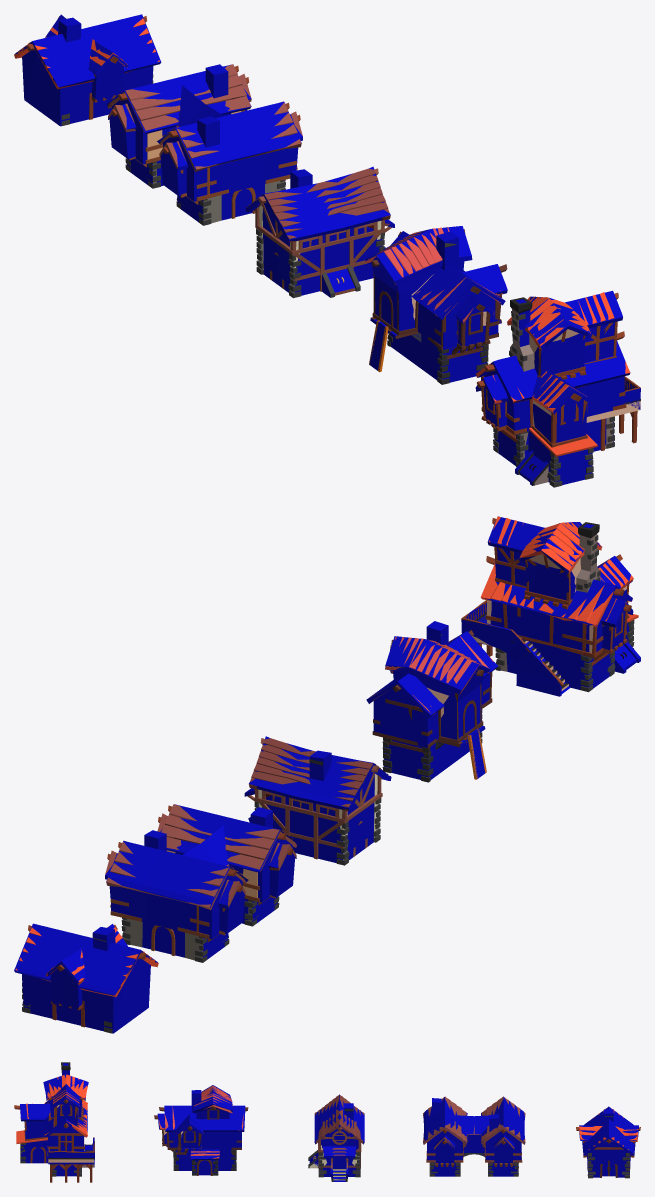
The model's file is Pack_Houses.obj.
3 views of the same model, one above another, from view 1: azimuth 30°, elevation 25°; view 2: azimuth 150°, elevation 25°; view 3: azimuth 270°, elevation 25° (orthographic). The views are drawn at different scales.
Visible parts, largest first — view 1: Cube.097_Cube.090, Cube.094_Cube.095, Cube.103, Cube.108_Cube.109, Cube.120_Cube.121, Cube.048_Cube.058, Cube.109_Cube.110, Cube.044_Cube.050, Cube.013_Cube.002, Cube.125_Cube.126, Cube.121_Cube.122, Cube.029_Cube.031 (+19 smaller); view 2: Cube.097_Cube.090, Cube.094_Cube.095, Cube.103, Cube.108_Cube.109, Cube.120_Cube.121, Cube.048_Cube.058, Cube.109_Cube.110, Cube.044_Cube.050, Cube.118_Cube.119, Cube.013_Cube.002, Cube.050_Cube.028, Cube.010_Cube.025 (+15 smaller); view 3: Cube.097_Cube.090, Cube.108_Cube.109, Cube.094_Cube.095, Cube.103, Cube.048_Cube.058, Cube.044_Cube.050, Cube.120_Cube.121, Cube.013_Cube.002, Cube.121_Cube.122, Cube.109_Cube.110, Cube.117_Cube.118, Cube.123_Cube.124 (+18 smaller).
Part boxes in pixels (<box>): Cube.097_Cube.090: <box>106,64,301,201</box>; Cube.094_Cube.095: <box>14,14,161,126</box>; Cube.103: <box>245,166,390,295</box>; Cube.108_Cube.109: <box>371,231,505,382</box>; Cube.120_Cube.121: <box>476,340,630,431</box>; Cube.048_Cube.058: <box>107,64,302,172</box>; Cube.109_Cube.110: <box>365,226,472,331</box>; Cube.044_Cube.050: <box>481,297,637,458</box>; Cube.013_Cube.002: <box>246,168,390,292</box>; Cube.125_Cube.126: <box>508,296,591,376</box>; Cube.121_Cube.122: <box>532,370,593,442</box>; Cube.029_Cube.031: <box>371,240,501,379</box>; Cube.097_Cube.090: <box>106,804,297,939</box>; Cube.094_Cube.095: <box>14,923,157,1033</box>; Cube.103: <box>249,736,391,862</box>; Cube.108_Cube.109: <box>366,631,497,779</box>; Cube.120_Cube.121: <box>485,576,632,652</box>; Cube.048_Cube.058: <box>105,804,296,910</box>; Cube.109_Cube.110: <box>385,636,490,739</box>; Cube.044_Cube.050: <box>478,522,629,671</box>; Cube.118_Cube.119: <box>461,603,570,696</box>; Cube.013_Cube.002: <box>249,738,390,859</box>; Cube.050_Cube.028: <box>481,516,638,626</box>; Cube.010_Cube.025: <box>110,850,275,960</box>; Cube.097_Cube.090: <box>423,1096,524,1163</box>; Cube.108_Cube.109: <box>164,1105,245,1175</box>; Cube.094_Cube.095: <box>583,1106,634,1177</box>; Cube.103: <box>314,1094,364,1176</box>; Cube.048_Cube.058: <box>423,1097,525,1149</box>; Cube.044_Cube.050: <box>24,1062,92,1182</box>; Cube.120_Cube.121: <box>44,1099,87,1153</box>; Cube.013_Cube.002: <box>314,1095,364,1165</box>; Cube.121_Cube.122: <box>20,1104,50,1139</box>; Cube.109_Cube.110: <box>193,1085,232,1119</box>; Cube.117_Cube.118: <box>21,1140,80,1176</box>; Cube.123_Cube.124: <box>52,1084,79,1125</box>.
Bounding box in the file's own units: 7.48 × 7.37 × 46.56.
Materials: 2 (1 with a texture image).
